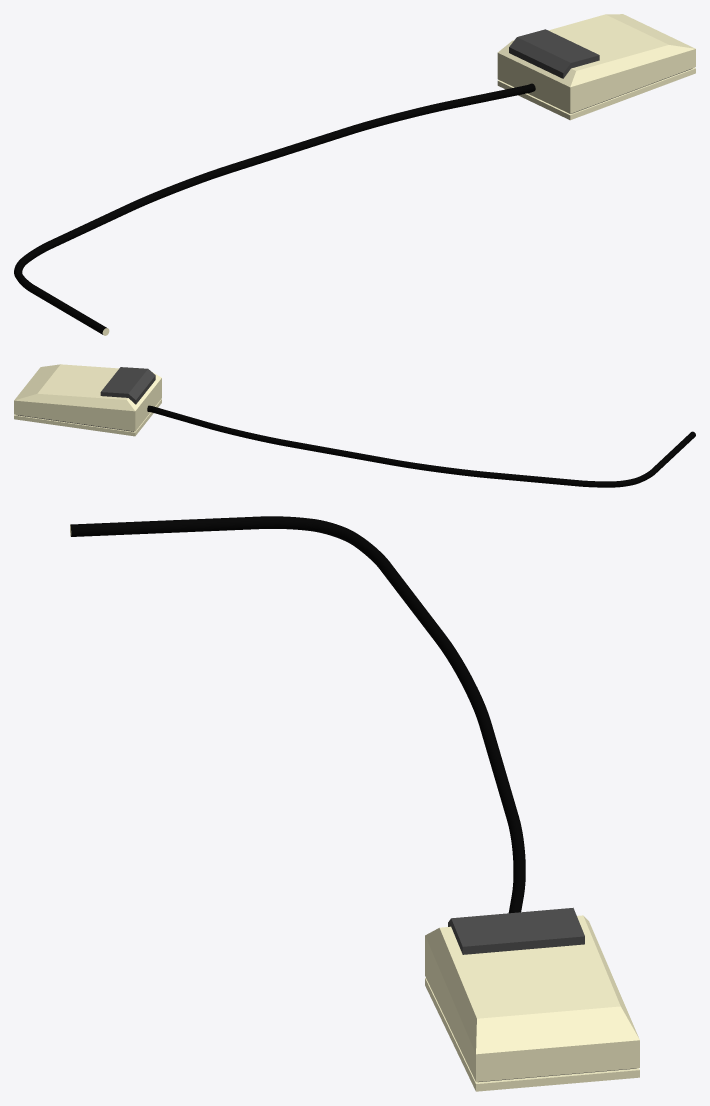
File: Mouse.fbx
3 renders of one model, top to bottom at view 1: azimuth 30°, elevation 25°; view 2: azimuth 150°, elevation 25°; view 3: azimuth 270°, elevation 25°, orthographic. The views are drawn at different scales.
Visible parts, largest first — view 1: Cube.007; view 2: Cube.007; view 3: Cube.007.
Part boxes in pixels (x1=…): Cube.007: x1=14, y1=14, x2=695, y2=335; Cube.007: x1=14, y1=364, x2=695, y2=487; Cube.007: x1=70, y1=516, x2=639, y2=1091.
Size of the model in its own units: 273 by 17.29 by 120.
